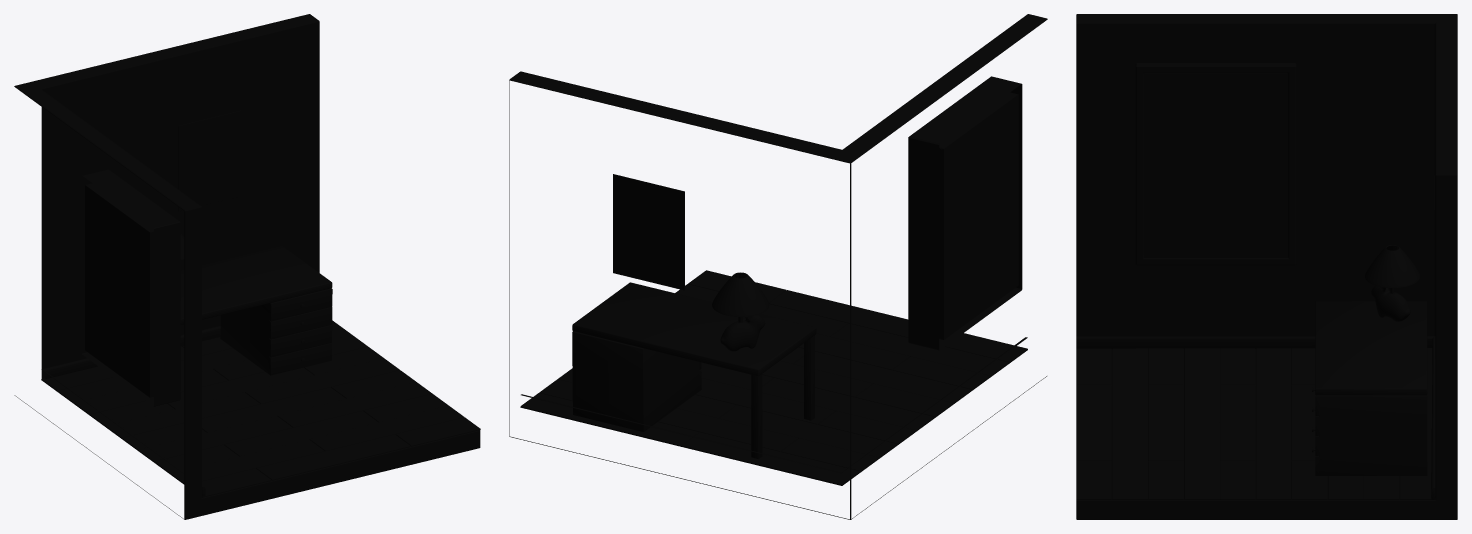
Rendered from room-AO1.glb.
3 renders of one model, left to right at view 1: azimuth 30°, elevation 25°; view 2: azimuth 150°, elevation 25°; view 3: azimuth 270°, elevation 25°, orthographic. The views are drawn at different scales.
Visible parts, largest first — view 1: Walls, Floor, Cube, WindowFrame, TableBottom, TableTop, Poster, WallsFloor; view 2: Floor, Cube, WindowFrame, TableTop, Walls, TableBottom, Poster, TableLegs, LampShade, RabbitStraight, WallsFloor; view 3: Walls, Floor, Cube, TableTop, TableBottom, WindowFrame, WallsFloor, LampShade, RabbitStraight.
Part boxes in pixels (x1,y1,x2,y2): Walls: (14, 14, 480, 519); Floor: (41, 320, 480, 497); Cube: (85, 184, 153, 397); WindowFrame: (82, 169, 180, 406); TableBottom: (220, 288, 332, 375); TableTop: (180, 246, 332, 324); Poster: (178, 110, 240, 211); WallsFloor: (41, 325, 220, 497); Floor: (520, 270, 1027, 485); Cube: (939, 92, 1018, 339); WindowFrame: (908, 76, 1022, 350); TableTop: (572, 282, 816, 376); Walls: (509, 14, 1047, 519); TableBottom: (572, 331, 701, 431); Poster: (613, 174, 684, 290); TableLegs: (751, 335, 814, 458); LampShade: (712, 273, 769, 316); RabbitStraight: (720, 315, 765, 351); WallsFloor: (521, 337, 1027, 473); Walls: (1076, 14, 1457, 519); Floor: (1076, 348, 1435, 499); Cube: (1144, 73, 1288, 257); TableTop: (1315, 301, 1427, 395); TableBottom: (1315, 395, 1427, 475); WindowFrame: (1135, 63, 1296, 265); WallsFloor: (1076, 336, 1435, 499); LampShade: (1365, 246, 1420, 287); RabbitStraight: (1371, 286, 1410, 321).
Bounding box in the file's own units: 4.06 × 4 × 4.
Materials: 1 (1 with a texture image).
